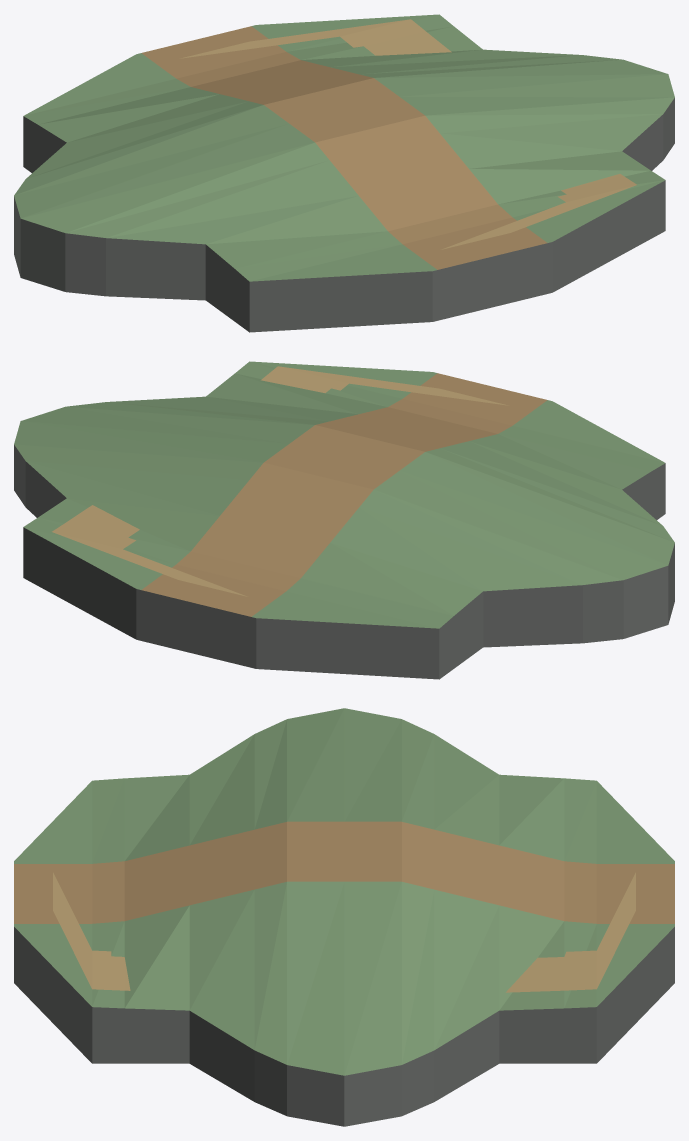
File: WG_Tabletop_Greybox.glb
3 renders of one model, top to bottom at view 1: azimuth 30°, elevation 25°; view 2: azimuth 150°, elevation 25°; view 3: azimuth 270°, elevation 25°, orthographic. The views are drawn at different scales.
Parts seen in each view (by area): view 1: GEO_Tabletop_LOD0; view 2: GEO_Tabletop_LOD0; view 3: GEO_Tabletop_LOD0.
Part boxes in pixels (x1,y1,x2,y2): GEO_Tabletop_LOD0: [14, 14, 674, 332]; GEO_Tabletop_LOD0: [14, 361, 674, 679]; GEO_Tabletop_LOD0: [14, 708, 674, 1126].
Bounding box in the file's own units: 8 × 1.05 × 6.34.
